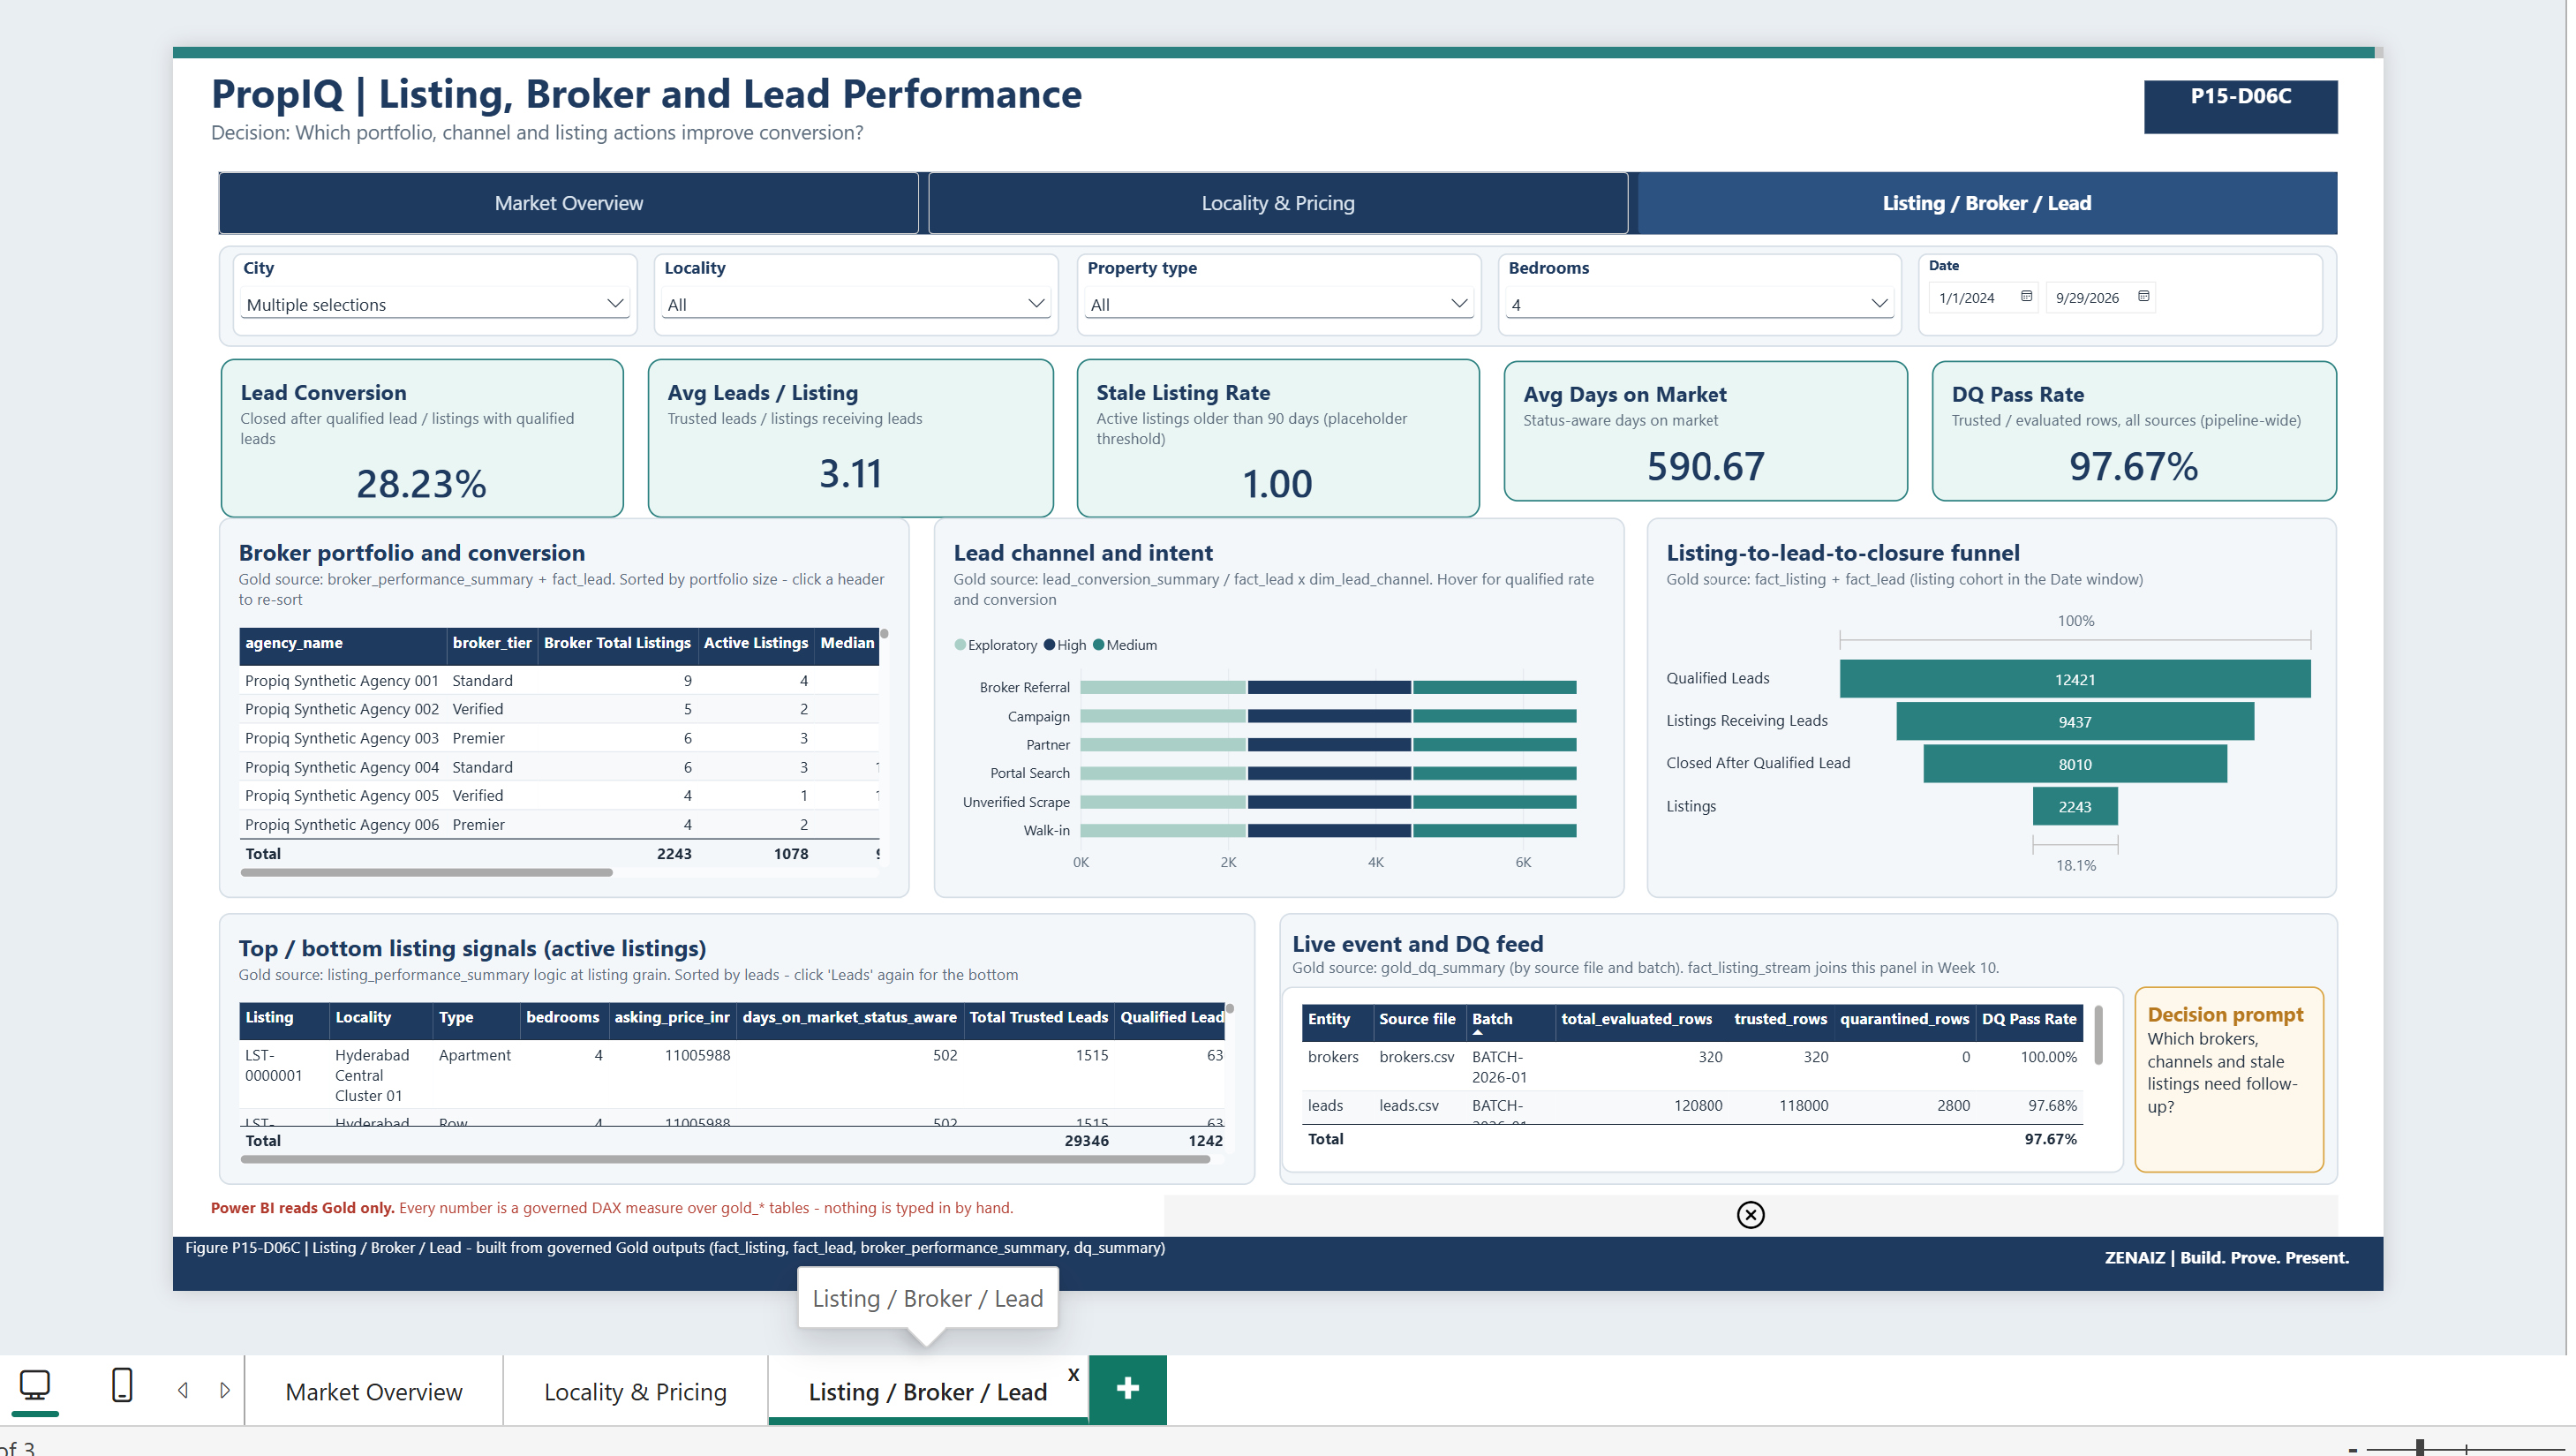

This screenshot's page, from the dashboard's own definition file:
{"tool":"powerbi","page":{"name":"Listing / Broker / Lead","canvas":[1920,1080],"ordinal":2},"visuals":[{"type":"textbox","box":[0,0,1920,68],"z":0},{"type":"slicer","fields":{"Values":["gold_dim_locality.city"]},"box":[123.1,106.8,322.1,150.2],"z":1000},{"type":"slicer","fields":{"Values":["gold_dim_locality.locality_name"]},"box":[582.7,106.8,320.3,149.9],"z":2000},{"type":"slicer","fields":{"Values":["gold_dim_property.property_type"]},"box":[1042.4,106.8,329.3,149.9],"z":3000},{"type":"slicer","fields":{"Values":["gold_dim_date.date_key"]},"box":[1505.6,106.8,331.2,150.2],"z":4000},{"type":"cardVisual","title":"LEAD CONVERSION","fields":{"Data":["Avg(gold_lead_conversion_summary.lead_conversion_rate_pct)"]},"box":[123.1,307.6,322.1,150.2],"z":5000},{"type":"cardVisual","title":"AVG LEADS / LISTING","fields":{"Data":["Avg(gold_lead_conversion_summary.avg_leads_per_listing)"]},"box":[580.9,307.6,314.9,150.2],"z":6000},{"type":"cardVisual","title":"STALE LISTING RATE","fields":{"Data":["Avg(gold_inventory_age_summary.stale_listing_rate_pct)"]},"box":[1042.4,307.6,329.4,150.2],"z":7000},{"type":"cardVisual","title":"AVG DAYS ON MARKET","fields":{"Data":["Avg(gold_listing_performance_summary.avg_days_on_market)"]},"box":[1505.6,307.6,331.2,150.2],"z":8000},{"type":"clusteredBarChart","title":"Broker portfolio and conversion","fields":{"Category":["gold_broker_performance_summary.agency_name"],"Y":["Sum(gold_listing_performance_summary.total_listings)"]},"box":[123.1,497.7,457.8,217.2],"z":9000},{"type":"clusteredColumnChart","title":"Lead Channel and Intent","fields":{"Category":["gold_dim_lead_channel.lead_channel"],"Y":["CountNonNull(gold_fact_lead.lead_id)"]},"box":[769.1,497.7,483.2,217.2],"z":10000},{"type":"funnel","title":"Listing-to-Lead-to-Closure Funnel","fields":{"Category":["gold_fact_lead.lead_status"],"Y":["CountNonNull(gold_fact_lead.lead_id)"]},"box":[1422.4,497.7,439.7,217.2],"z":11000},{"type":"tableEx","title":"Top / Bottom Listing Signals","fields":{"Values":["gold_dim_locality.locality_name","Sum(gold_listing_performance_summary.active_listing_count)","Sum(gold_listing_performance_summary.stale_listing_count)","Avg(gold_listing_performance_summary.avg_days_on_market)"]},"box":[90.9,770,869.9,222.6],"z":12000},{"type":"actionButton","box":[0,0,100,40],"z":13000},{"type":"tableEx","title":"Live Event and DQ Feed","fields":{"Values":["gold_fact_lead.lead_timestamp","gold_fact_lead.lead_channel_key","gold_fact_lead.listing_id","gold_fact_lead.lead_status","gold_fact_lead.buyer_intent","gold_fact_lead.qualified_flag"]},"box":[1131.1,770,754.1,281.6],"z":14000}]}

Visuals, with their boxes on the page's 1920x1080 design canvas (x1, y1, x2, y2). These are canvas units, not pixel positions in the 2576x1456 screenshot, which may show the page scaled, cropped or inside an application window:
textbox: [left=0, top=0, right=1920, bottom=68]
slicer - gold_dim_locality.city: [left=123, top=107, right=445, bottom=257]
slicer - gold_dim_locality.locality_name: [left=583, top=107, right=903, bottom=257]
slicer - gold_dim_property.property_type: [left=1042, top=107, right=1372, bottom=257]
slicer - gold_dim_date.date_key: [left=1506, top=107, right=1837, bottom=257]
"LEAD CONVERSION" cardVisual: [left=123, top=308, right=445, bottom=458]
"AVG LEADS / LISTING" cardVisual: [left=581, top=308, right=896, bottom=458]
"STALE LISTING RATE" cardVisual: [left=1042, top=308, right=1372, bottom=458]
"AVG DAYS ON MARKET" cardVisual: [left=1506, top=308, right=1837, bottom=458]
"Broker portfolio and conversion" clusteredBarChart: [left=123, top=498, right=581, bottom=715]
"Lead Channel and Intent" clusteredColumnChart: [left=769, top=498, right=1252, bottom=715]
"Listing-to-Lead-to-Closure Funnel" funnel: [left=1422, top=498, right=1862, bottom=715]
"Top / Bottom Listing Signals" tableEx: [left=91, top=770, right=961, bottom=993]
actionButton: [left=0, top=0, right=100, bottom=40]
"Live Event and DQ Feed" tableEx: [left=1131, top=770, right=1885, bottom=1052]
